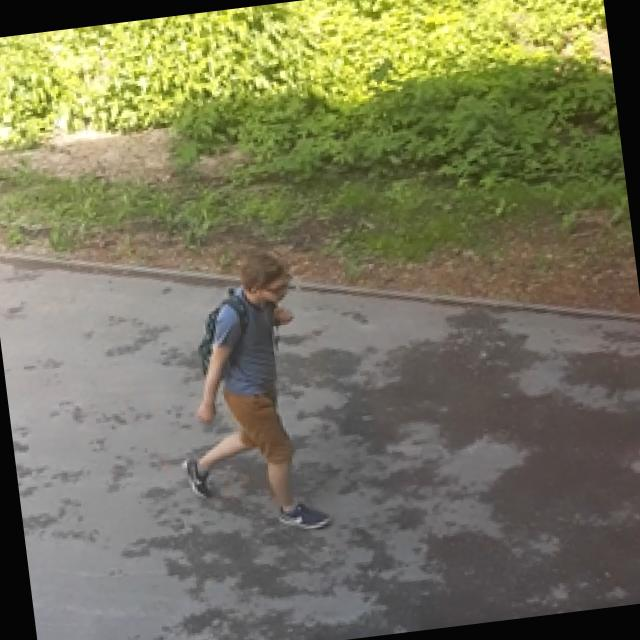person: (157, 249, 332, 542)
